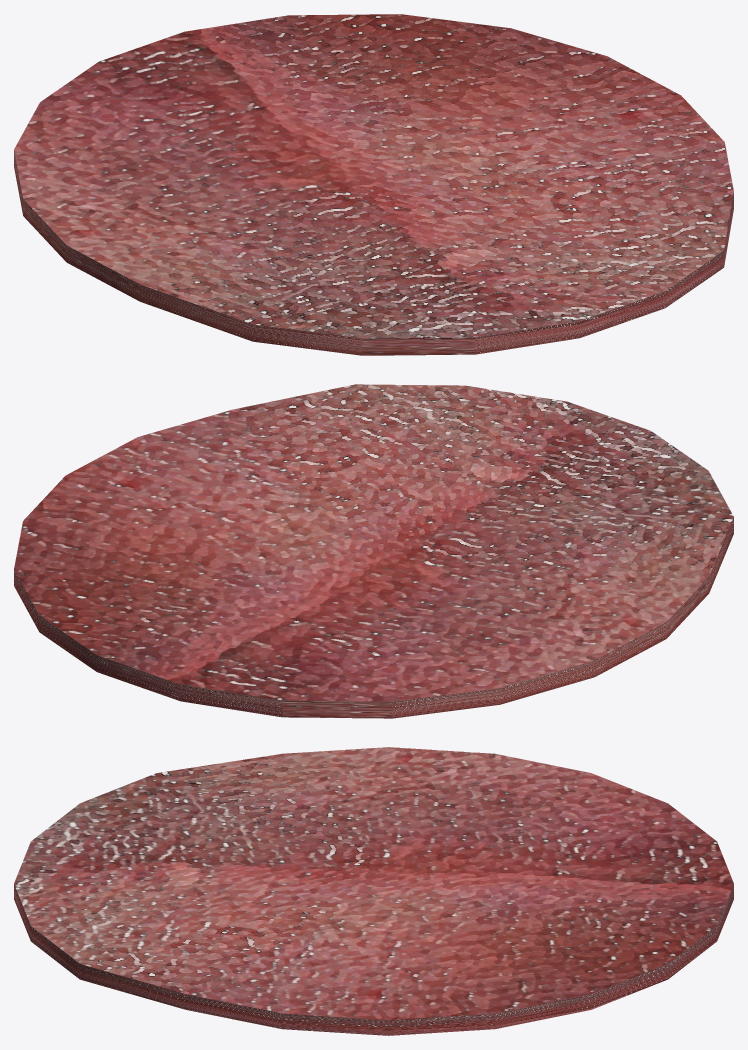
The model's file is Tongue.fbx.
3 views of the same model, one above another, from view 1: azimuth 30°, elevation 25°; view 2: azimuth 150°, elevation 25°; view 3: azimuth 270°, elevation 25° (orthographic). The views are drawn at different scales.
Parts seen in each view (by area): view 1: polySurface85; view 2: polySurface85; view 3: polySurface85.
Part boxes in pixels (box(x1,y1,x2,y2)): polySurface85: box(14, 14, 733, 355); polySurface85: box(14, 384, 733, 718); polySurface85: box(14, 747, 733, 1035).
Size of the model in its own units: 293 by 7.85 by 327.
Materials: 1 (1 with a texture image).
